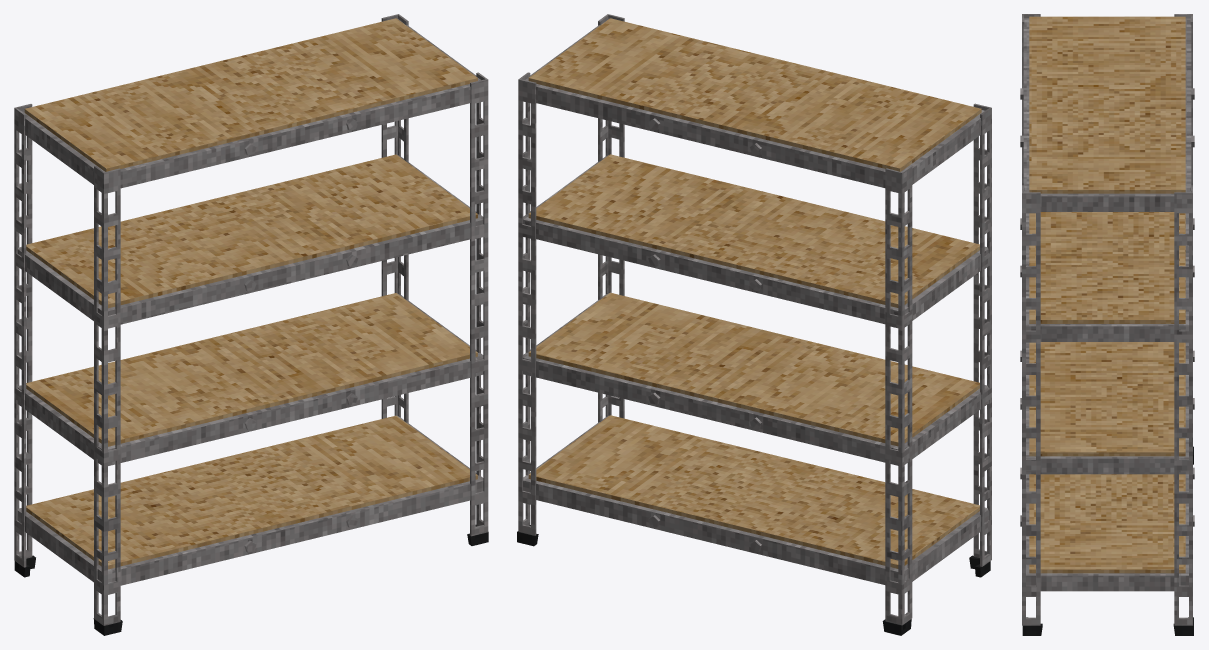
The model's file is pantry_shelf.fbx.
The picture shows the model from 3 angles, left to right: view 1: azimuth 30°, elevation 25°; view 2: azimuth 150°, elevation 25°; view 3: azimuth 270°, elevation 25°; orthographic projection. The views are drawn at different scales.
Parts seen in each view (by area): view 1: Shelf_Cube.004; view 2: Shelf_Cube.004; view 3: Shelf_Cube.004.
Boxes of the visible parts, x1=… form: Shelf_Cube.004: x1=14, y1=14, x2=488, y2=635; Shelf_Cube.004: x1=517, y1=14, x2=991, y2=635; Shelf_Cube.004: x1=1020, y1=14, x2=1194, y2=635.
Size of the model in its own units: 178 by 204 by 72.95.
